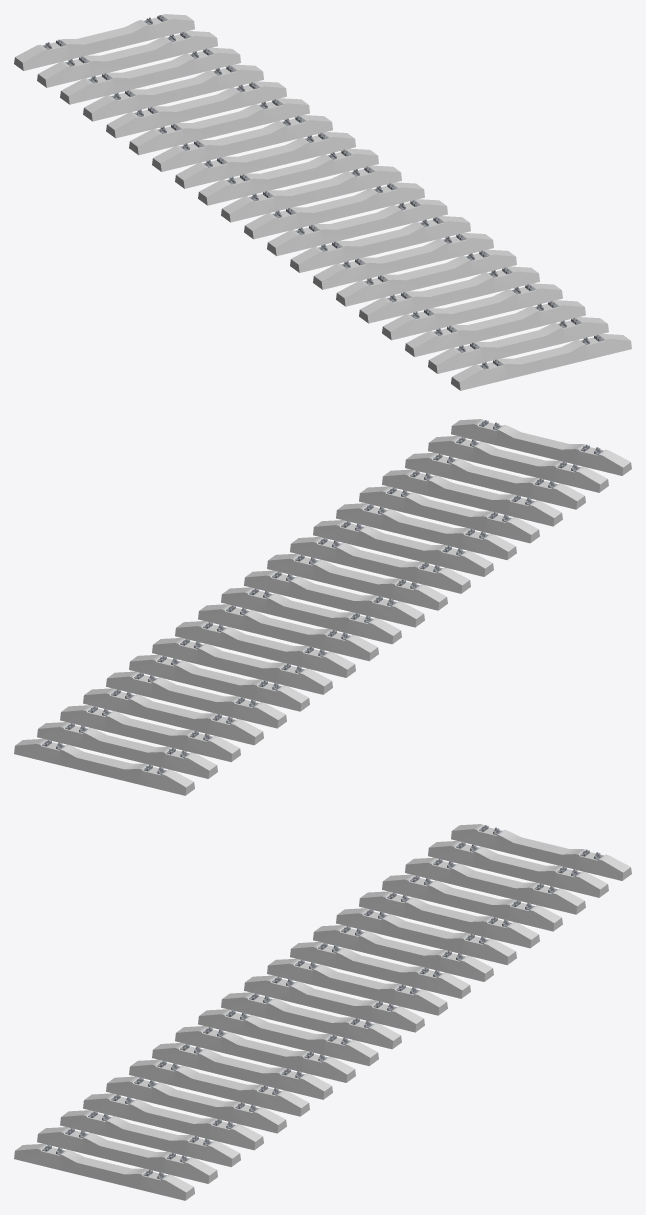
File: Beams 2.fbx
The picture shows the model from 3 angles, top to bottom: view 1: azimuth 30°, elevation 25°; view 2: azimuth 150°, elevation 25°; view 3: azimuth 330°, elevation 25°; orthographic projection.
Visible parts, largest first — view 1: Beams 2; view 2: Beams 2; view 3: Beams 2.
Part boxes in pixels (box(x1,y1,x2,y2)): Beams 2: box(14, 14, 631, 390); Beams 2: box(14, 419, 631, 795); Beams 2: box(14, 824, 631, 1200).
Bounding box in the file's own units: 269 × 27.06 × 1214.
